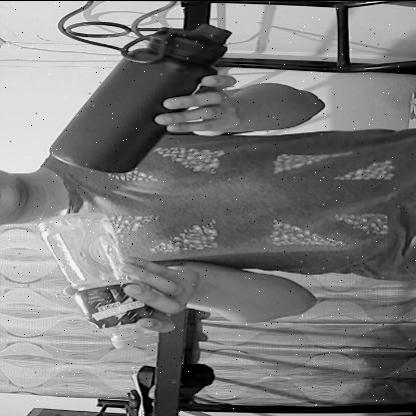Plastic Bottle: (40, 208, 187, 356)
